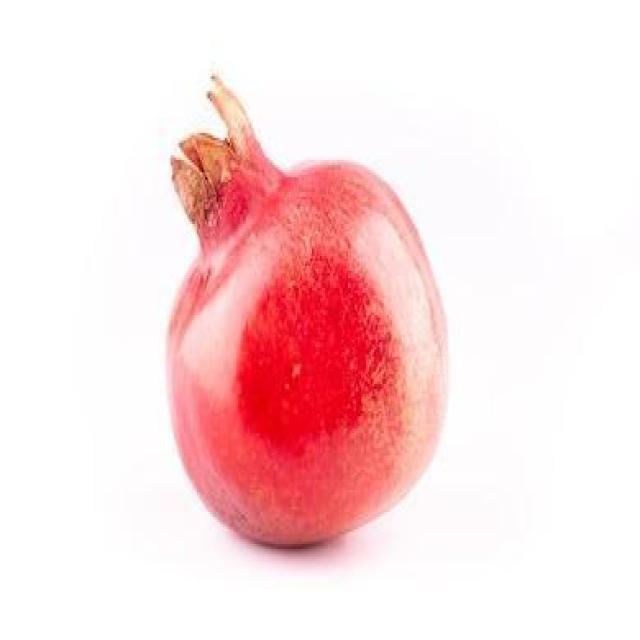Pomegranate: (160, 68, 452, 553)
